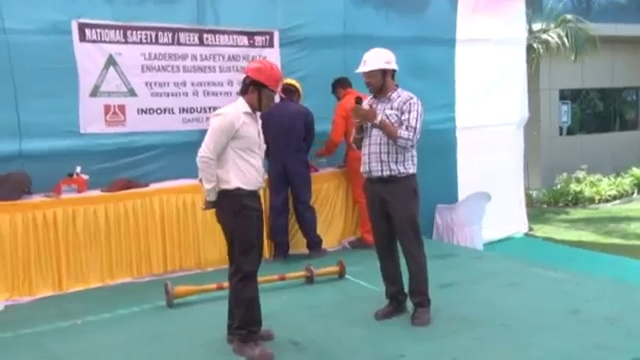helmet: (242, 58, 285, 96), (352, 46, 401, 74), (280, 76, 304, 99)
helmet_off: (329, 74, 353, 104)
helmet_on: (237, 57, 285, 118), (351, 47, 401, 99), (278, 75, 305, 106)
person: (195, 57, 285, 358), (351, 44, 432, 327), (262, 74, 327, 257), (316, 74, 375, 249)
